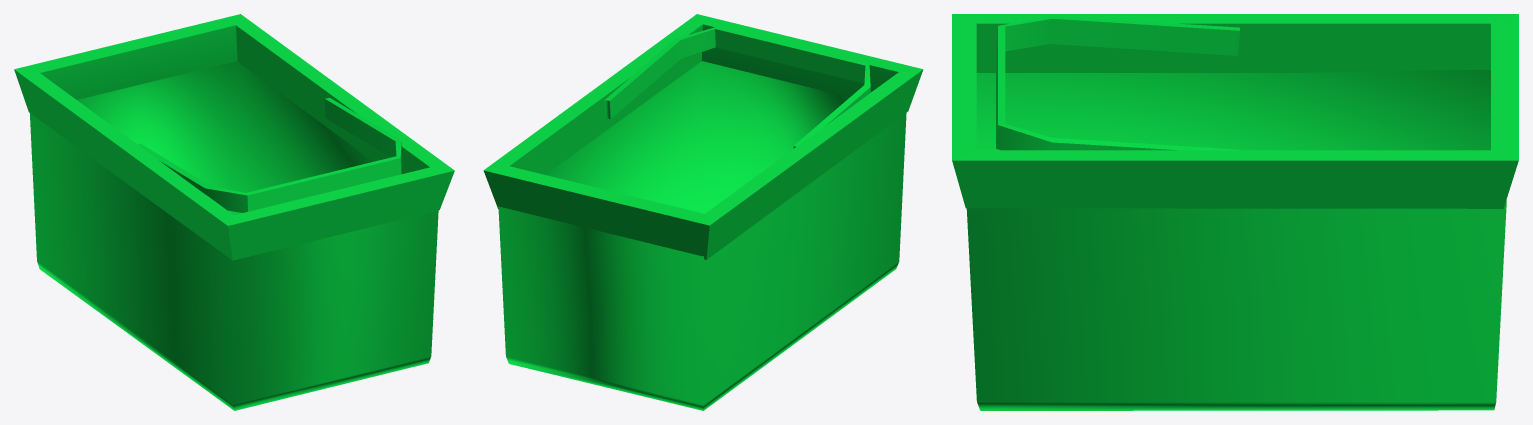
Rendered from Shop_Basket_02_Lod1.fbx.
The picture shows the model from 3 angles, left to right: view 1: azimuth 30°, elevation 25°; view 2: azimuth 150°, elevation 25°; view 3: azimuth 270°, elevation 25°; orthographic projection. The views are drawn at different scales.
Parts seen in each view (by area): view 1: Shop_Basket_02_Lod1; view 2: Shop_Basket_02_Lod1; view 3: Shop_Basket_02_Lod1.
Boxes of the visible parts, box(x1,y1,x2,y2) form: Shop_Basket_02_Lod1: box(14, 14, 454, 410); Shop_Basket_02_Lod1: box(483, 14, 923, 410); Shop_Basket_02_Lod1: box(952, 14, 1518, 410).
Size of the model in its own units: 32.72 by 28.34 by 53.44.
